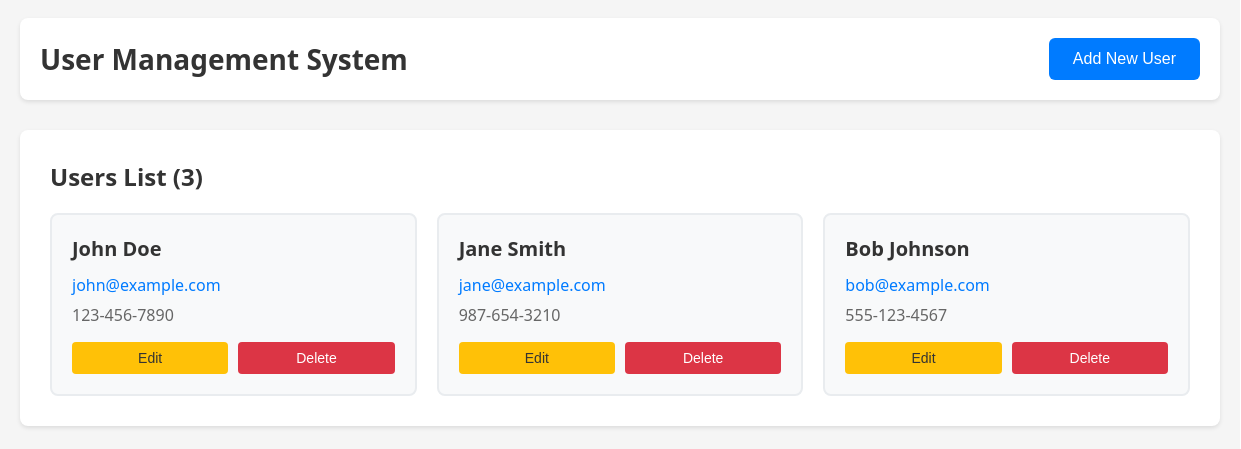
Scenario: Home Component › deletes a user
The image size is (1241, 449).
Expected: the text "Jane Smith" is shown, x1=459 y1=235 x2=566 y2=262
Note: Click delete button
Click the button "Delete" below "987-654-3210".
click(703, 358)  # box x1=625 y1=342 x2=781 y2=374
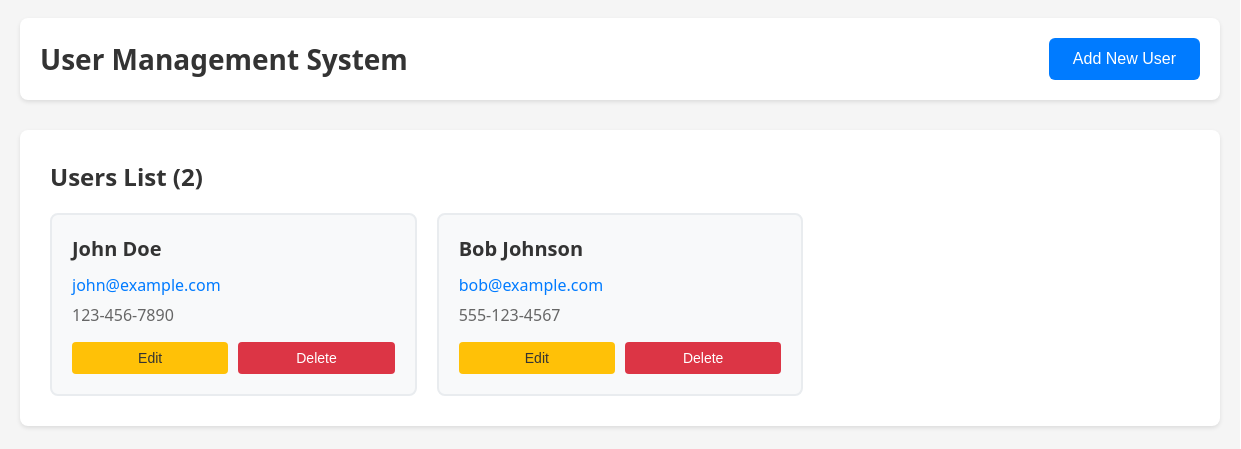
Result: the heading "Jane Smith" is gone
